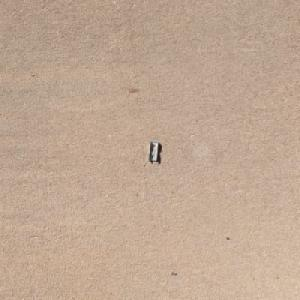ClampPart: (147, 140, 160, 161)
